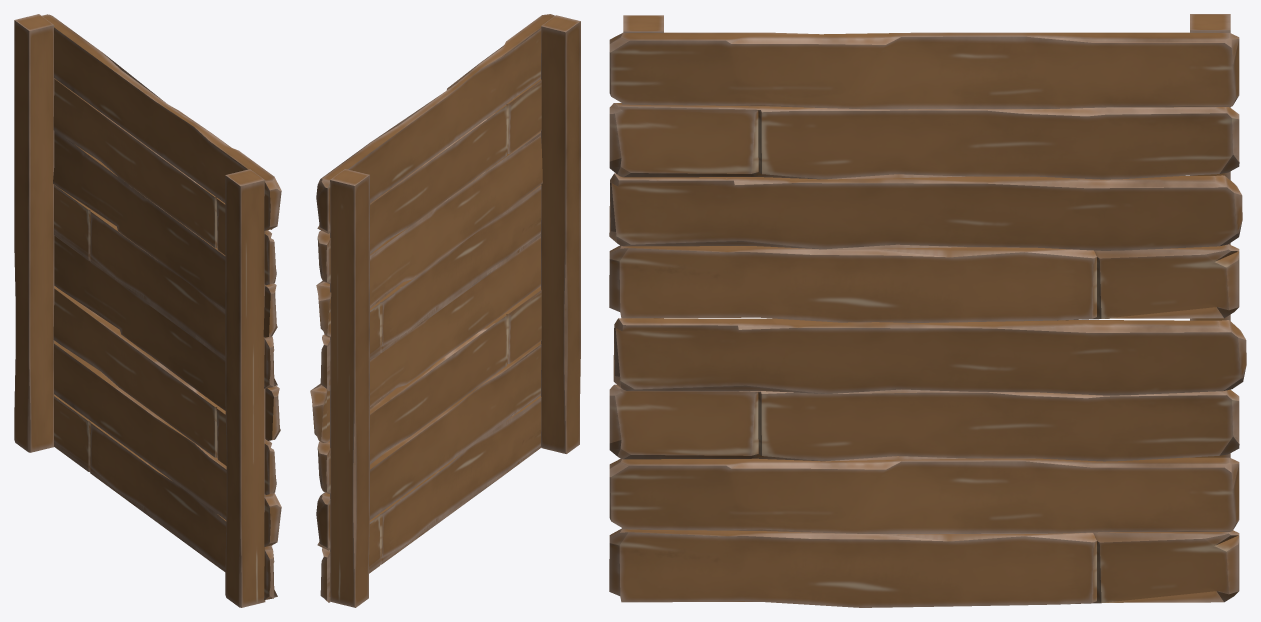
File: WoodWall.fbx
3 renders of one model, left to right at view 1: azimuth 30°, elevation 25°; view 2: azimuth 150°, elevation 25°; view 3: azimuth 270°, elevation 25°, orthographic. The views are drawn at different scales.
Parts seen in each view (by area): view 1: WoodWall; view 2: WoodWall; view 3: WoodWall.
Boxes of the visible parts, x1=… form: WoodWall: x1=14, y1=14, x2=281, y2=607; WoodWall: x1=310, y1=14, x2=580, y2=607; WoodWall: x1=609, y1=14, x2=1246, y2=607.
Size of the model in its own units: 10.81 by 98.81 by 100.
